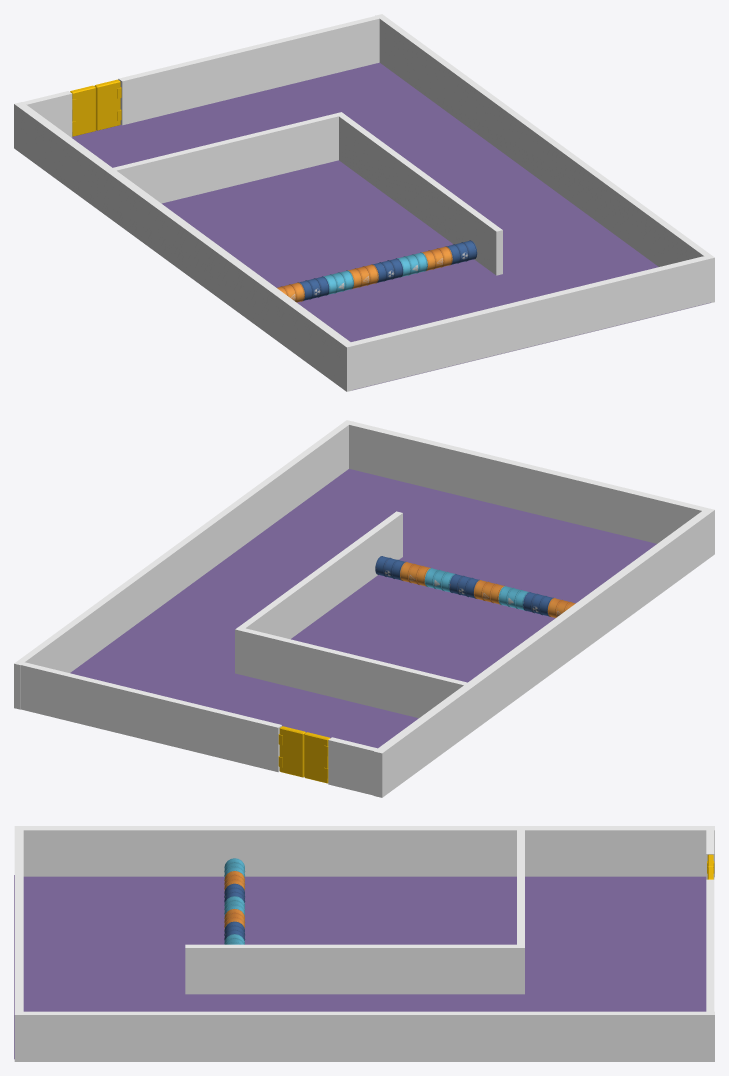
The model's file is maps_81.fbx.
3 renders of one model, top to bottom at view 1: azimuth 30°, elevation 25°; view 2: azimuth 150°, elevation 25°; view 3: azimuth 270°, elevation 25°, orthographic. The views are drawn at different scales.
Visible parts, largest first — view 1: wall_01_08_geo, wall_01_07_geo, wall_01_05_geo, wall_01_06_geo, wall_01_09_geo1, wall_01_11_geo39, wall_01_11_geo40, wall_01_09_geo, polySurface161, polySurface165; view 2: wall_01_08_geo, wall_01_07_geo, wall_01_05_geo, wall_01_06_geo, wall_01_09_geo1, wall_01_11_geo39, wall_01_11_geo40, wall_01_09_geo, polySurface161, polySurface165; view 3: wall_01_08_geo, wall_01_06_geo, wall_01_07_geo, wall_01_11_geo40, wall_01_05_geo, wall_01_11_geo39, wall_01_09_geo1.
Part boxes in pixels (x1,y1,x2,y2): wall_01_08_geo: (72, 62, 710, 390); wall_01_07_geo: (14, 102, 354, 391); wall_01_05_geo: (351, 256, 708, 389); wall_01_06_geo: (376, 14, 714, 303); wall_01_09_geo1: (118, 16, 379, 125); wall_01_11_geo39: (113, 112, 344, 203); wall_01_11_geo40: (339, 115, 502, 275); wall_01_09_geo: (23, 91, 72, 137); polySurface161: (94, 79, 121, 130); polySurface165: (70, 85, 95, 136); wall_01_08_geo: (70, 469, 656, 748); wall_01_07_geo: (373, 508, 714, 797); wall_01_05_geo: (349, 421, 706, 543); wall_01_06_geo: (14, 420, 352, 709); wall_01_09_geo1: (21, 662, 281, 772); wall_01_11_geo39: (235, 627, 467, 718); wall_01_11_geo40: (239, 511, 402, 639); wall_01_09_geo: (328, 737, 377, 795); polySurface161: (278, 726, 305, 777); polySurface165: (304, 732, 330, 783); wall_01_08_geo: (14, 875, 706, 1059); wall_01_06_geo: (14, 1011, 714, 1061); wall_01_07_geo: (14, 826, 714, 877); wall_01_11_geo40: (185, 944, 516, 994); wall_01_05_geo: (14, 830, 23, 1011); wall_01_11_geo39: (517, 830, 524, 994); wall_01_09_geo1: (706, 879, 714, 1011).
Bounding box in the file's own units: 76.85 × 8.89 × 120.
Materials: 5 (5 with a texture image).
